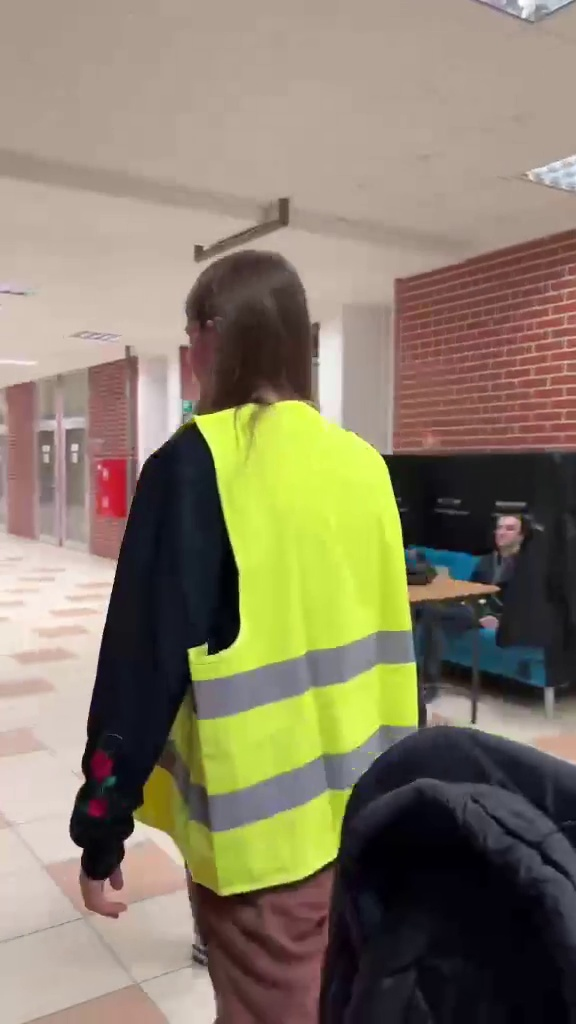vest: (89, 249, 408, 1018)
